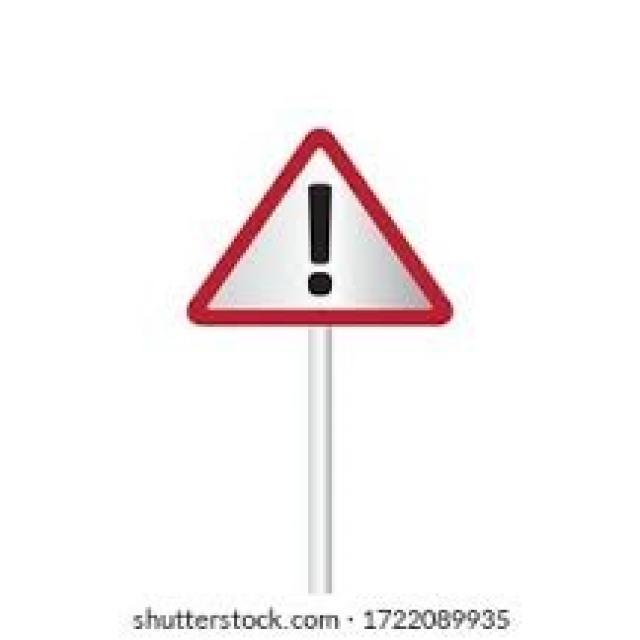warning: (170, 119, 457, 335)
